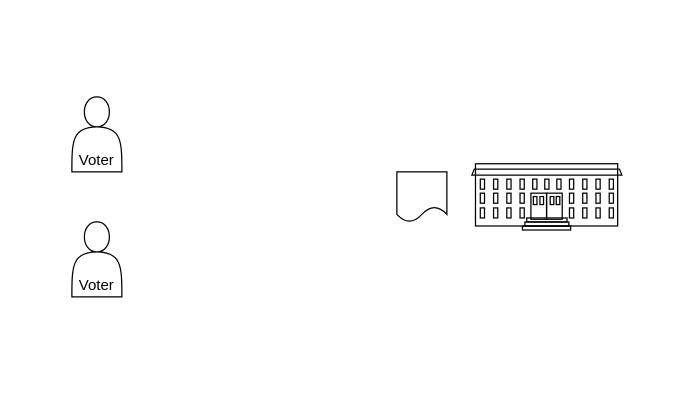
Some shapes in this 693 by 393 pixel diagram are drawn without their labels. The shapes that lost their labels are listed below. From the top down, each one's box as (x1, y1, x2, y2) in pixels, then its label:
(396, 171, 447, 222): Vote (Combined)
(471, 162, 622, 230): Voting Tallier
